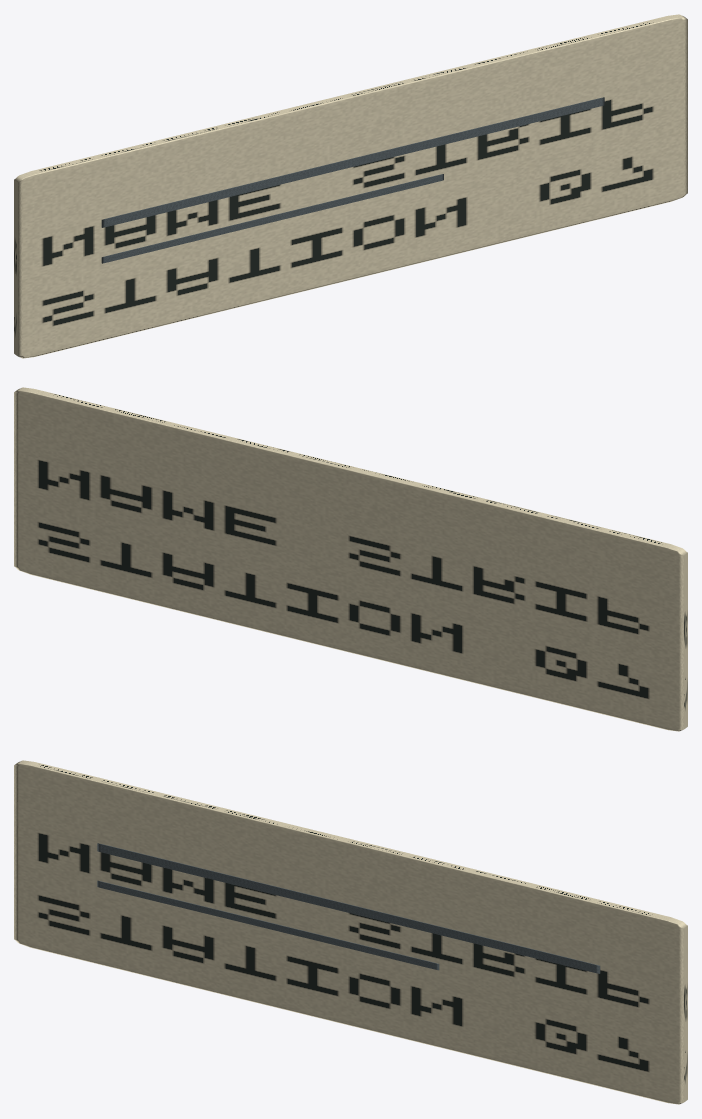
Rendered from name-strip.glb.
The picture shows the model from 3 angles, top to bottom: view 1: azimuth 30°, elevation 25°; view 2: azimuth 150°, elevation 25°; view 3: azimuth 330°, elevation 25°; orthographic projection.
Parts seen in each view (by area): view 1: board, stripe, line; view 2: board; view 3: board, stripe, line.
Part boxes in pixels (box(x1,y1,x2,y2)): board: box(14, 14, 687, 358); stripe: box(101, 97, 604, 227); line: box(101, 174, 443, 263); board: box(14, 387, 687, 731); board: box(14, 760, 687, 1104); stripe: box(97, 843, 600, 973); line: box(97, 880, 439, 970).
Size of the model in its own units: 0.23 by 0.06 by 0.00272.
Materials: 2 (2 with a texture image).
